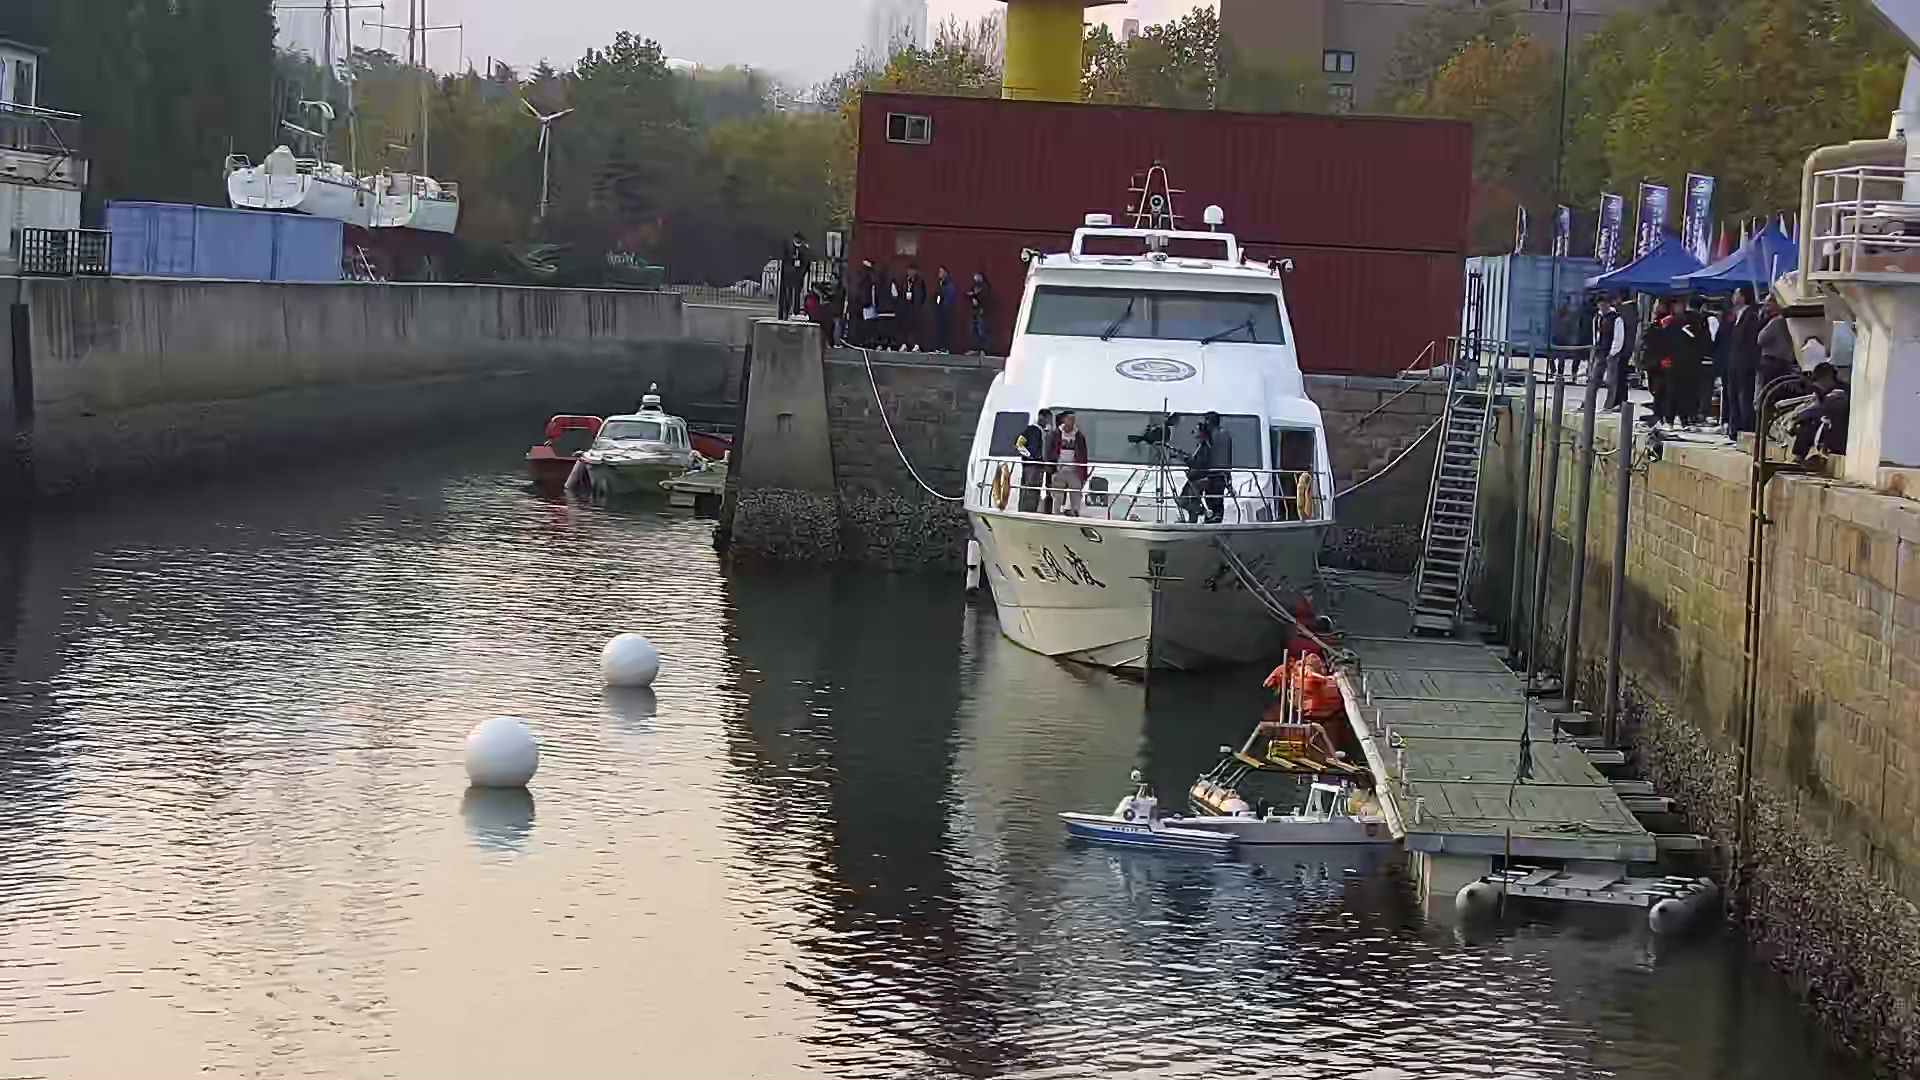ball: (464, 722, 539, 794), (604, 633, 658, 692)
boat: (1472, 860, 1701, 958), (1058, 782, 1239, 873)
harbor: (1307, 535, 1731, 975)
person: (1016, 404, 1049, 516), (1187, 411, 1220, 523), (1057, 407, 1086, 520)
ship: (959, 225, 1338, 664), (585, 383, 690, 502)
